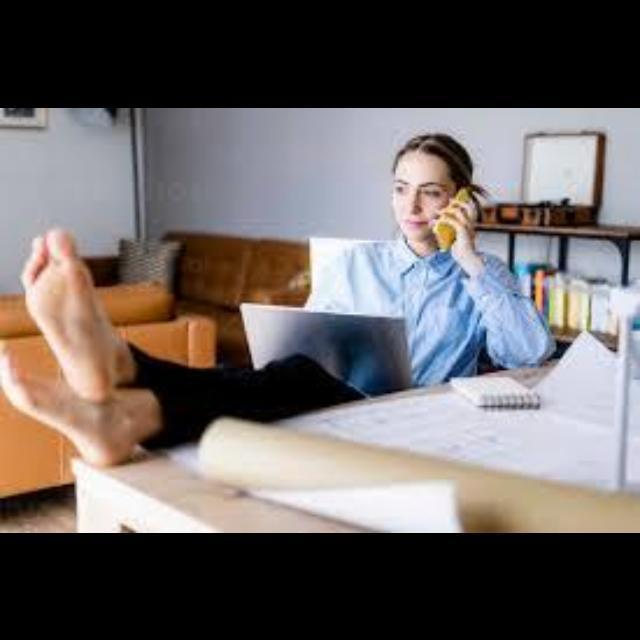PhoneUse: (436, 185, 480, 247)
SafeDriving: (418, 183, 446, 201), (390, 179, 412, 197)
